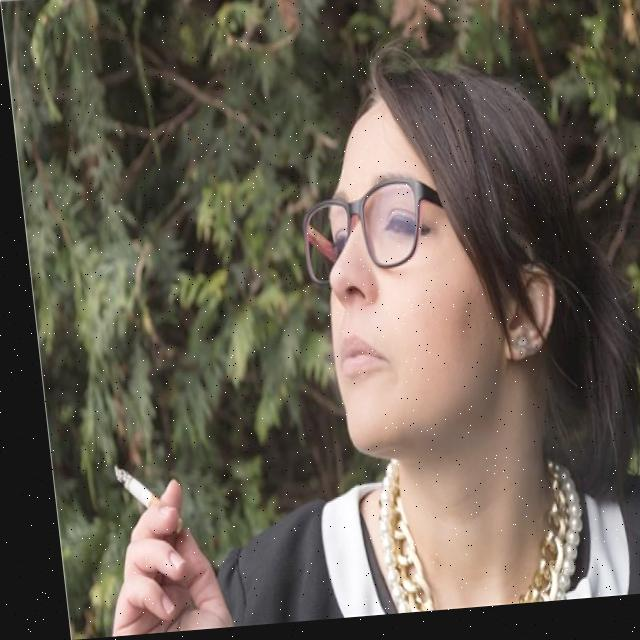cigarette: (104, 464, 173, 539)
